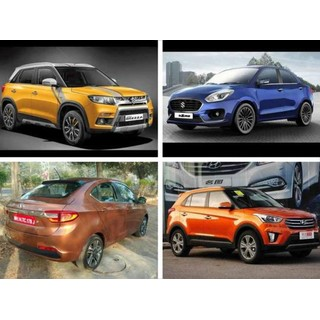car: (3, 176, 150, 272), (2, 59, 154, 145), (164, 186, 320, 262), (166, 64, 314, 135)
